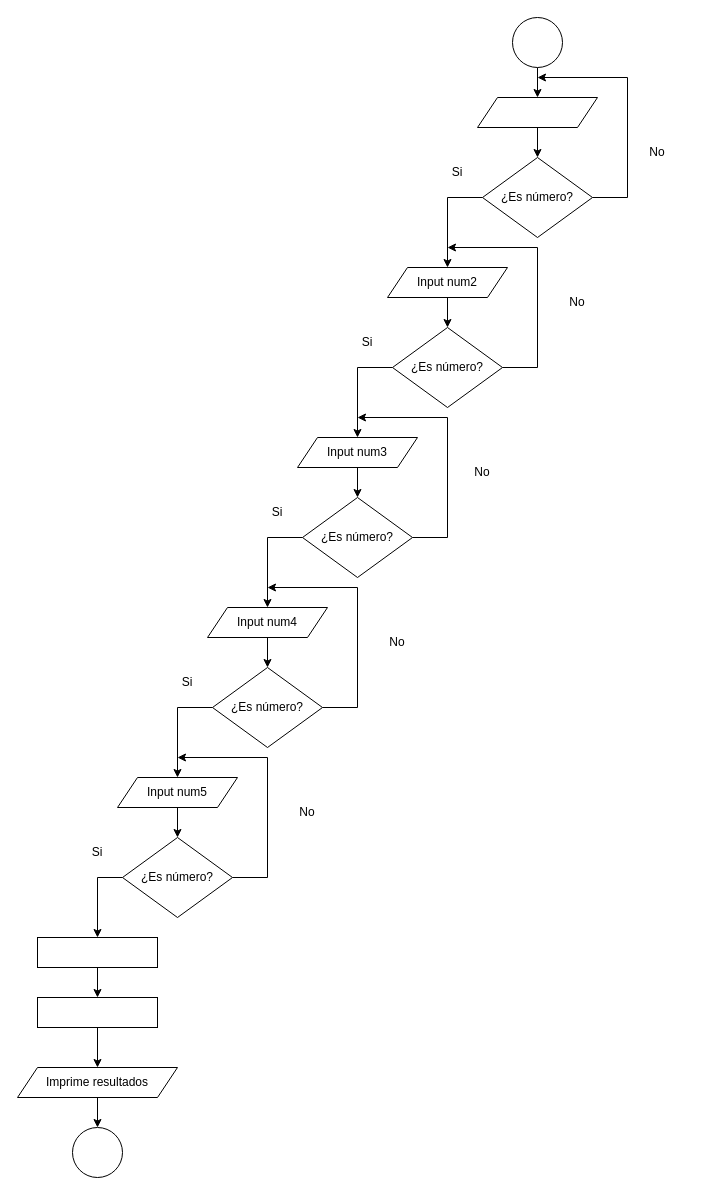
This 705x1195 diagram has some shape labels left out. Here are the shapes that lost their labels. From the top down, the centre of each, then its label:
At (537,112): "Input num1".
At (97,952): "Calcula suma".
At (97,1012): "Calcula promedio".
